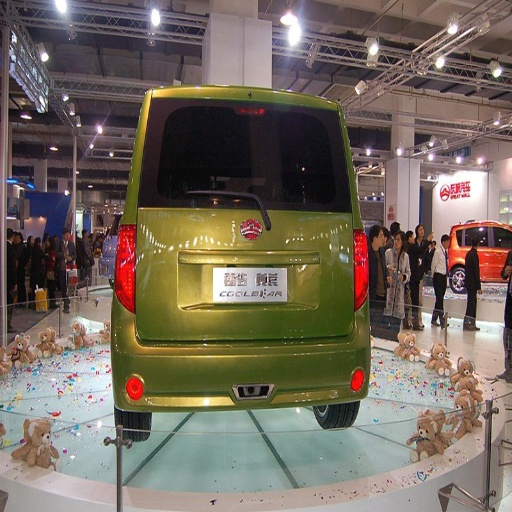back_bumper: (109, 301, 369, 416)
tailgate: (136, 207, 338, 338)
trunk: (143, 215, 355, 334)
